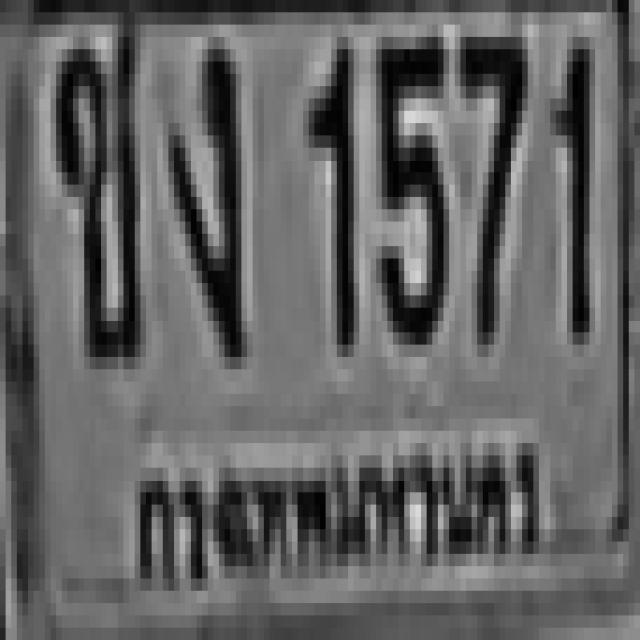1: (303, 37, 348, 345), (547, 37, 587, 332)
16NgorNgu: (163, 37, 241, 357)
19ChorChang: (51, 12, 140, 357)
5: (371, 25, 444, 332)
7: (455, 25, 522, 332)
Bangkok: (126, 408, 539, 584)
